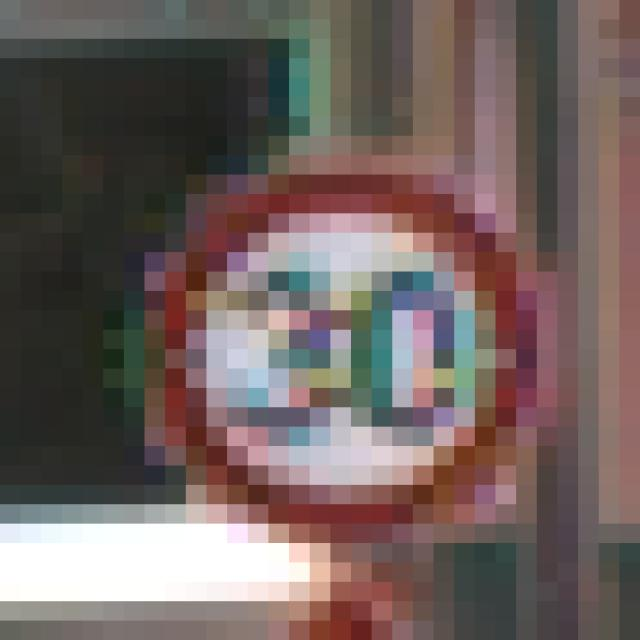Speed Limit -30-: (93, 107, 526, 514)
